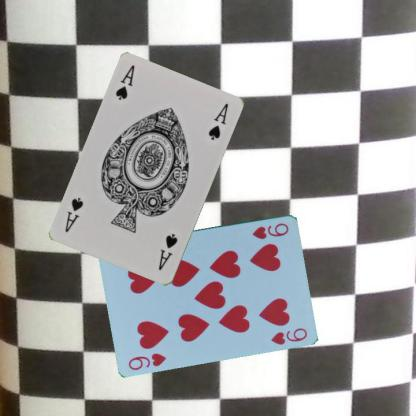9h: (126, 350, 168, 372), (250, 220, 290, 240)
As: (156, 231, 179, 272), (113, 62, 136, 102)
